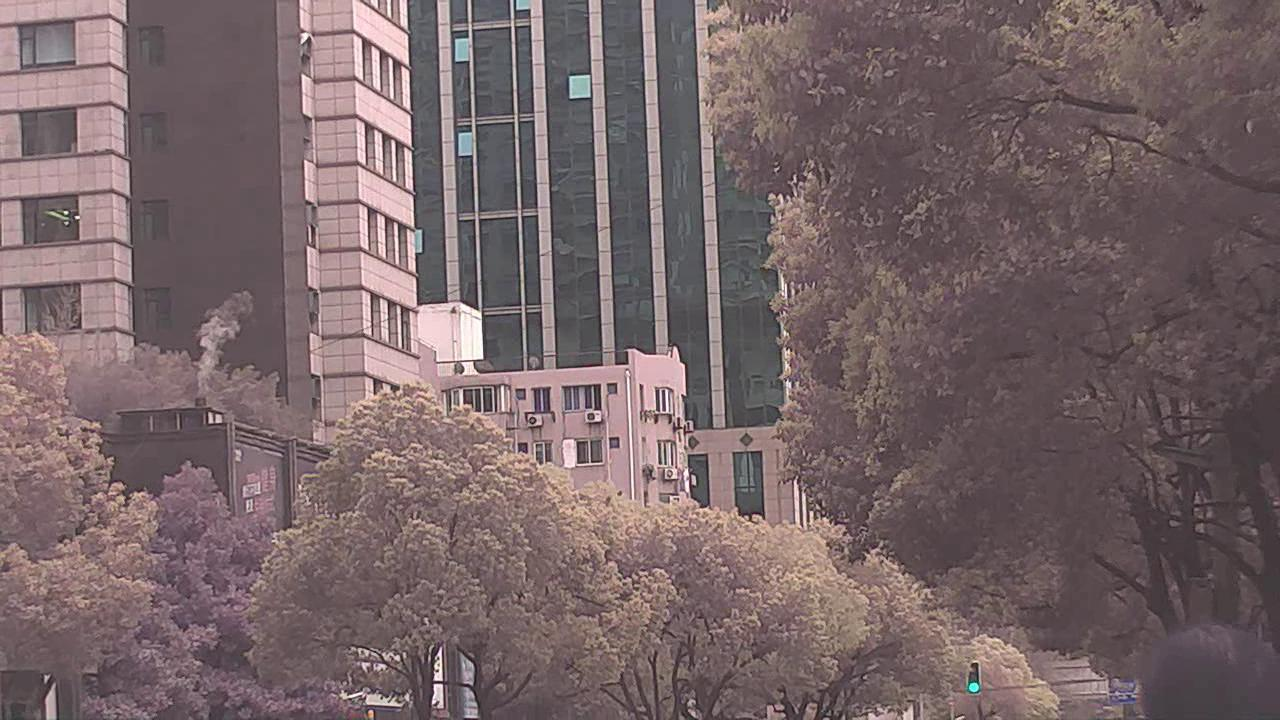traffic_light: (969, 660, 981, 696)
